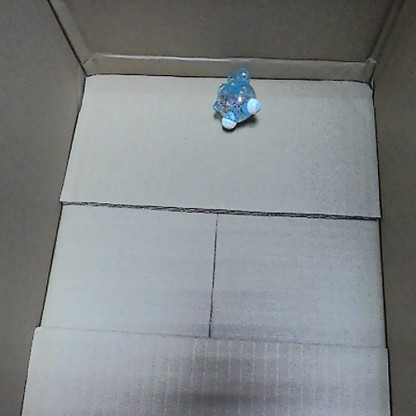bluefish: (212, 64, 262, 133)
